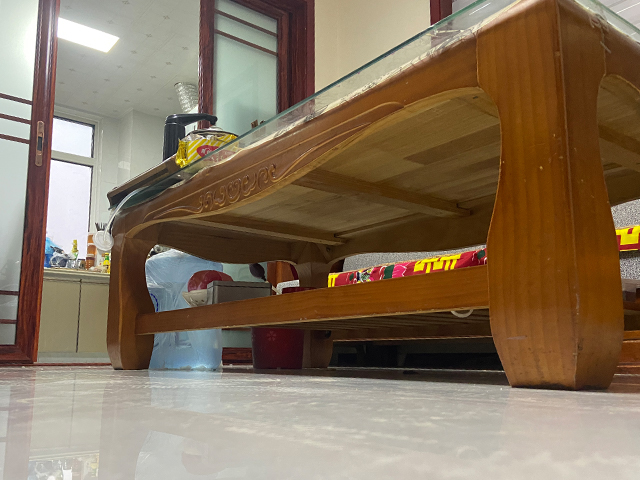cabinet: (39, 268, 109, 362)
table: (106, 1, 640, 390)
